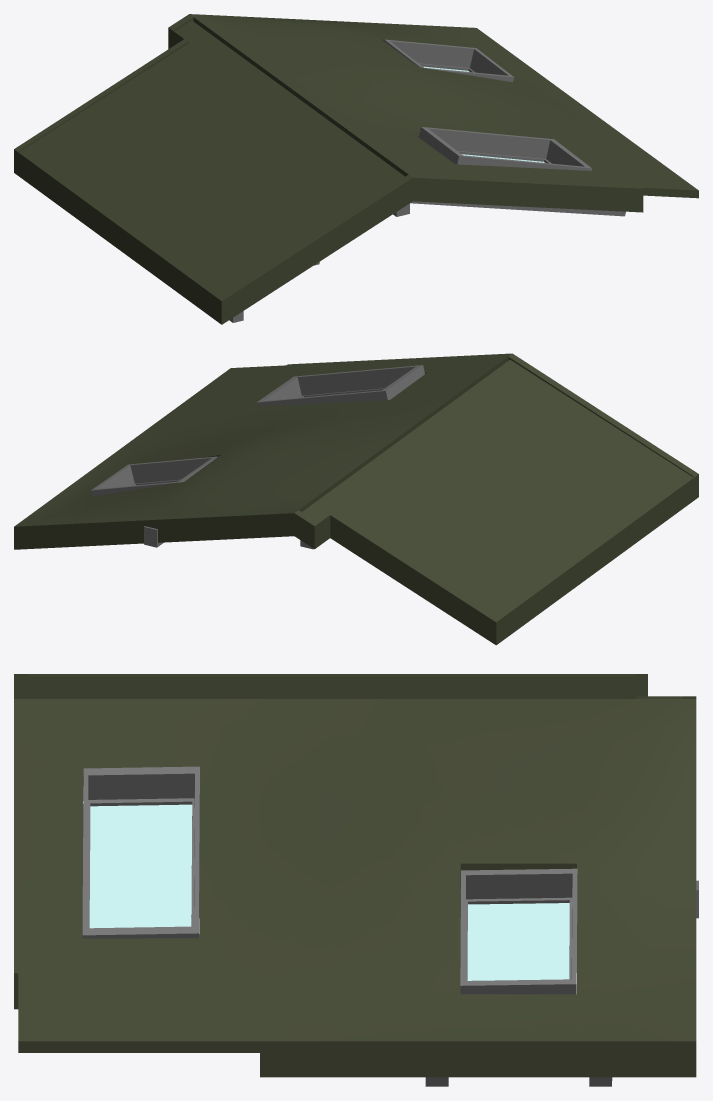
File: roof.gltf
The picture shows the model from 3 angles, top to bottom: view 1: azimuth 30°, elevation 25°; view 2: azimuth 150°, elevation 25°; view 3: azimuth 270°, elevation 25°; orthographic projection. The views are drawn at different scales.
Parts seen in each view (by area): view 1: Object_38, Object_46, Object_41, Object_51, Object_378, Object_48, Object_25; view 2: Object_38, Object_46, Object_41, Object_51, Object_378, Object_48; view 3: Object_46, Object_378, Object_38, Object_50, Object_47, Object_51, Object_48, Object_41, Object_52, Object_49.
Boxes of the visible parts, x1,y1,x2,y2 form: Object_38: [20, 20, 404, 297]; Object_46: [190, 14, 643, 212]; Object_41: [14, 14, 412, 324]; Object_51: [419, 127, 592, 170]; Object_378: [563, 130, 698, 198]; Object_48: [384, 39, 514, 82]; Object_25: [410, 201, 625, 216]; Object_38: [302, 360, 692, 618]; Object_46: [14, 353, 511, 549]; Object_41: [294, 353, 698, 645]; Object_51: [256, 365, 424, 406]; Object_378: [154, 365, 285, 424]; Object_48: [90, 456, 217, 496]; Object_46: [14, 699, 696, 1077]; Object_378: [18, 973, 259, 1052]; Object_38: [27, 676, 636, 698]; Object_50: [83, 801, 192, 928]; Object_47: [467, 903, 569, 980]; Object_51: [82, 766, 199, 938]; Object_48: [460, 868, 577, 994]; Object_41: [14, 674, 696, 698]; Object_52: [87, 798, 194, 928]; Object_49: [465, 897, 572, 980].
Bounding box in the file's own units: 6.86 × 1.64 × 5.57.
